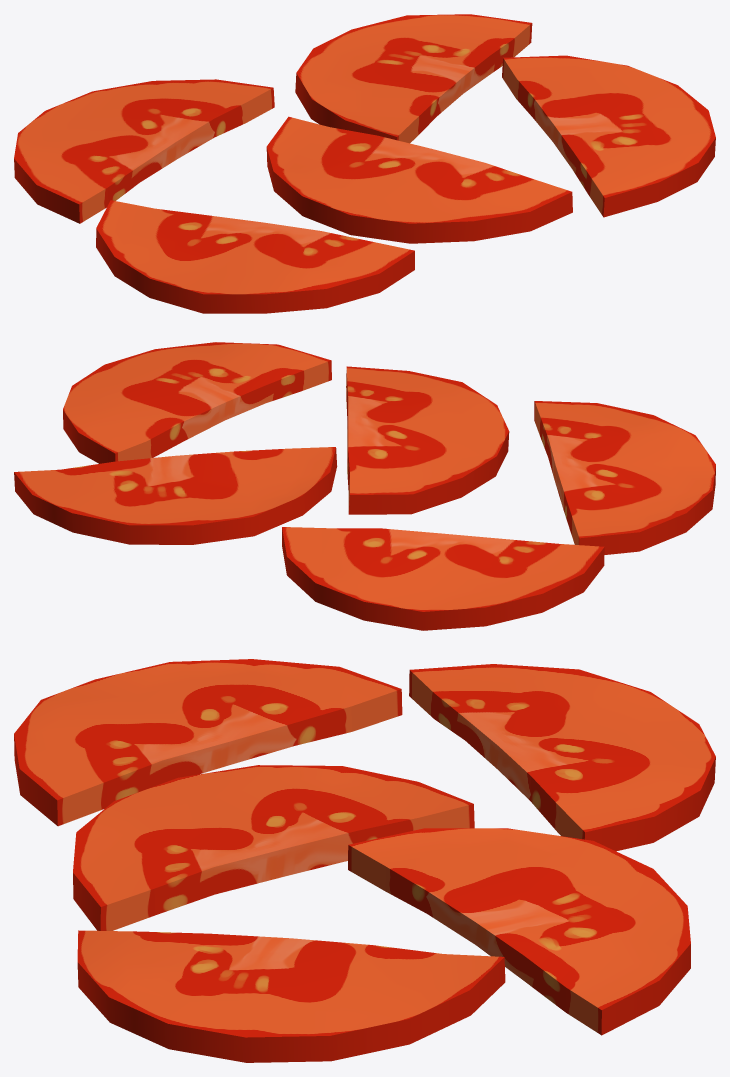
Rendered from Tomato.fbx.
The picture shows the model from 3 angles, top to bottom: view 1: azimuth 30°, elevation 25°; view 2: azimuth 150°, elevation 25°; view 3: azimuth 270°, elevation 25°; orthographic projection. The views are drawn at different scales.
Visible parts, largest first — view 1: Tomato; view 2: Tomato; view 3: Tomato.
Boxes of the visible parts, x1,y1,x2,y2 form: Tomato: [14, 14, 715, 313]; Tomato: [14, 342, 715, 630]; Tomato: [14, 659, 715, 1062].
Size of the model in its own units: 18.37 by 1.2 by 14.17.
